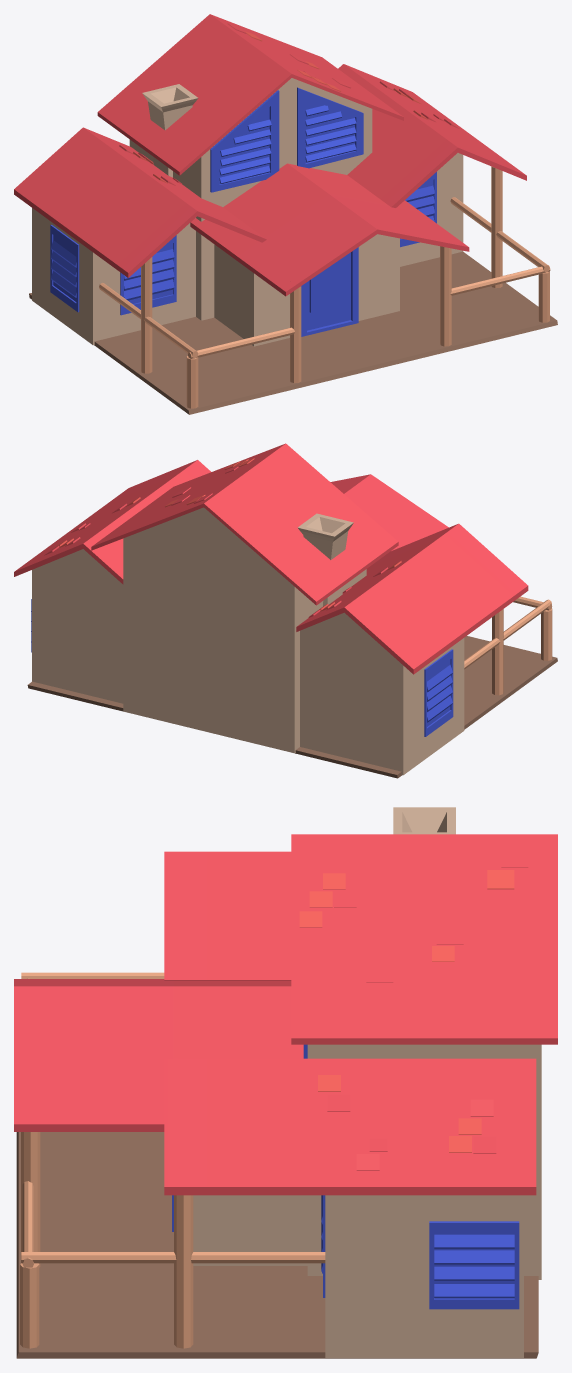
File: buildings-tavern.obj
3 renders of one model, top to bottom at view 1: azimuth 30°, elevation 25°; view 2: azimuth 150°, elevation 25°; view 3: azimuth 270°, elevation 25°, orthographic. The views are drawn at different scales.
Parts seen in each view (by area): view 1: buildings-tavern; view 2: buildings-tavern; view 3: buildings-tavern.
Boxes of the visible parts, x1,y1,x2,y2 form: buildings-tavern: [14, 14, 557, 414]; buildings-tavern: [14, 443, 557, 778]; buildings-tavern: [14, 807, 557, 1358].
Size of the model in its own units: 8.5 by 4.76 by 6.17.
